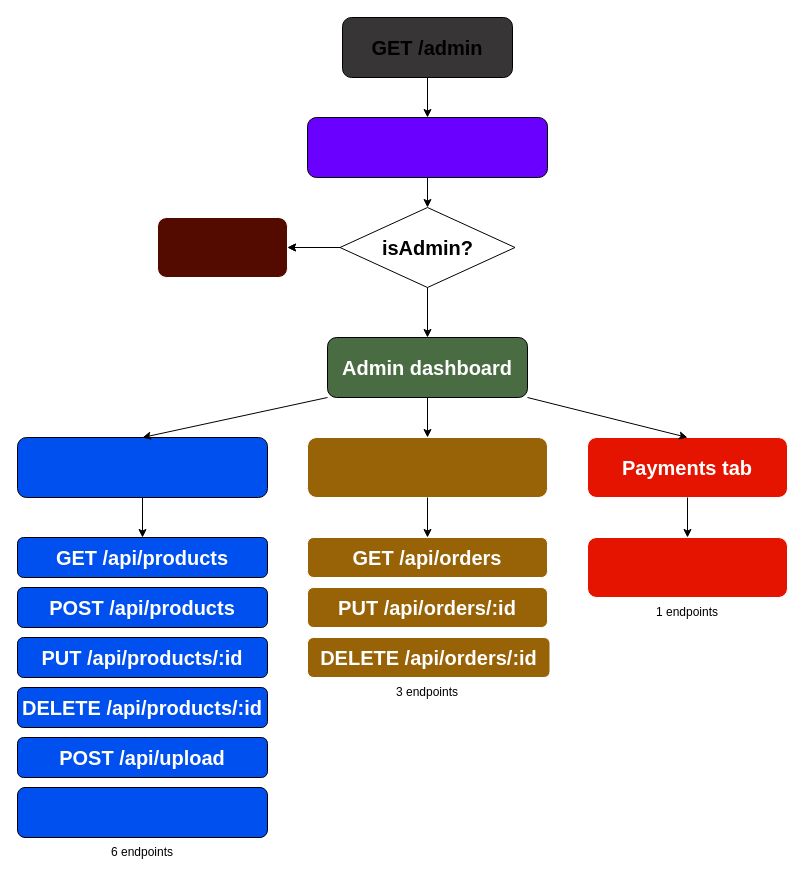
This 805x885 diagram has some shape labels left out. Here are the shapes that lost their labels. From the top down, the centre of each, then its label:
the point at 427,147: Next middleware (check cookiers)
the point at 222,247: Redirect
the point at 142,467: Product tab
the point at 427,467: Orders tab
the point at 687,567: GET /api/orders /payment-logs
the point at 142,812: POST /api/products /restock-random
